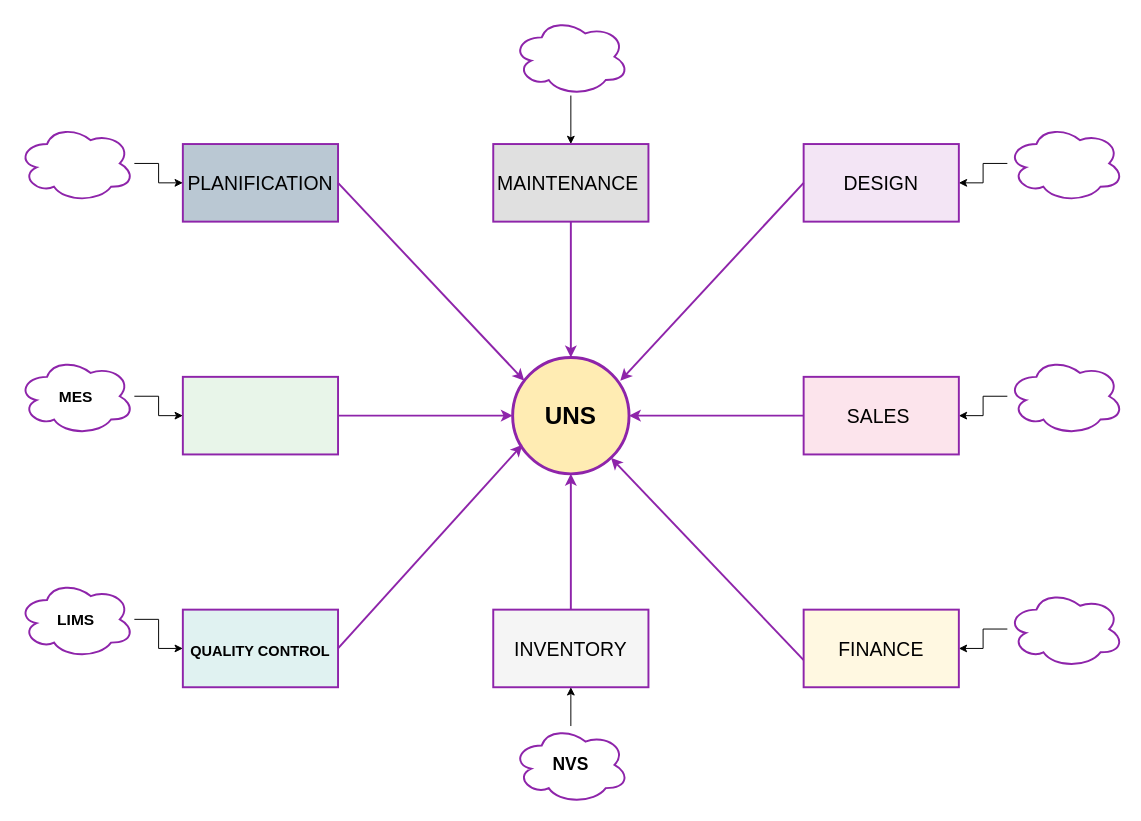
Image size: 1141x821. Some labels were removed from this diagram. Here are the shapes that lost their labels. From the top down, the centre of each, then its label:
At pixel 570 56: "MNS".
At pixel 75 163: "URP".
At pixel 1065 163: "CAO".
At pixel 260 415: "PRODUCTION".
At pixel 1065 396: "CRM".
At pixel 1065 628: "FS".
